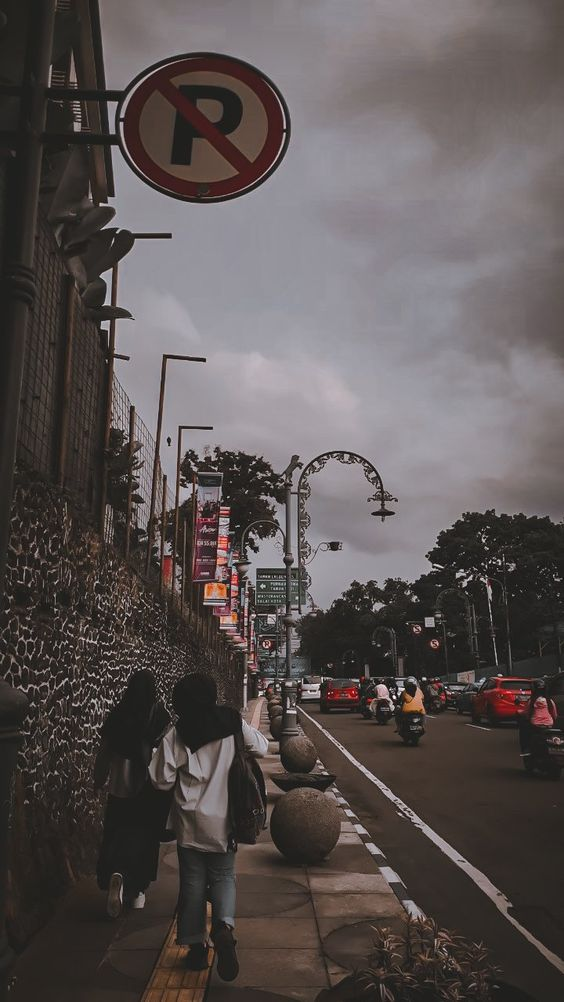car: (471, 677, 529, 722), (321, 680, 367, 720)
human: (170, 668, 267, 980), (98, 668, 161, 925)
motor: (517, 681, 561, 792), (395, 674, 442, 756)
sign: (118, 34, 307, 238)
